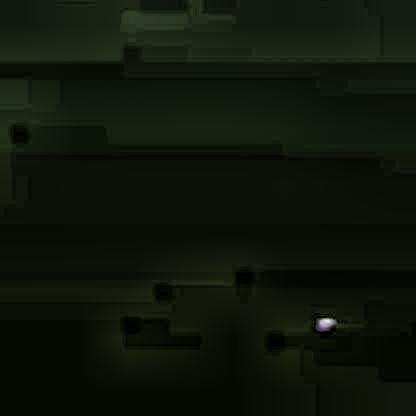golfball: (314, 314, 334, 331)
